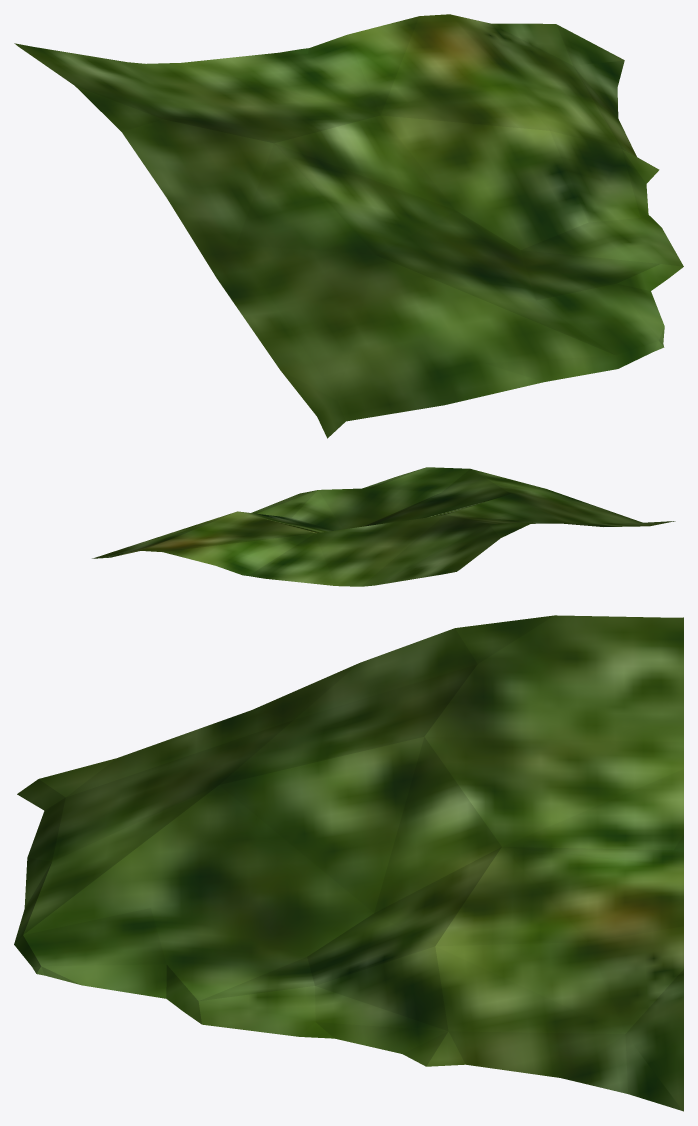
3 views of the same model, one above another, from view 1: azimuth 30°, elevation 25°; view 2: azimuth 150°, elevation 25°; view 3: azimuth 270°, elevation 25° (orthographic). The views are drawn at different scales.
Size of the model in its own units: 0.5096 by 0.1339 by 0.4548.
Materials: 1 (1 with a texture image).
